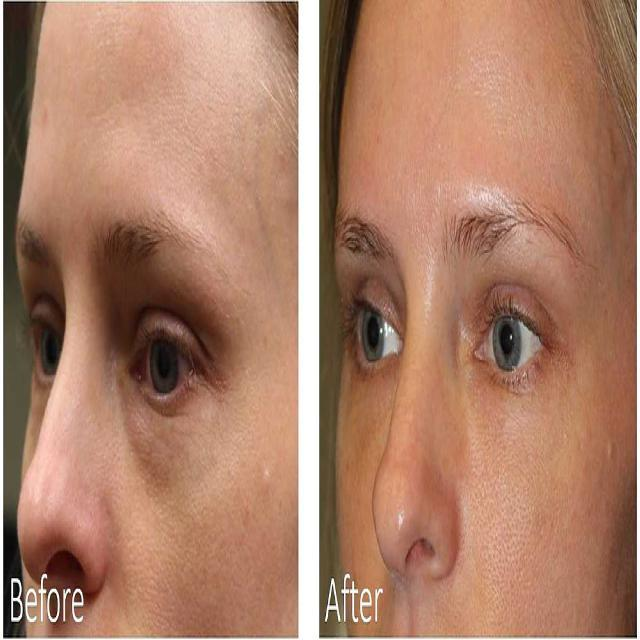Puffy Eyes - v3 Dark Circle: (120, 392, 226, 498)
